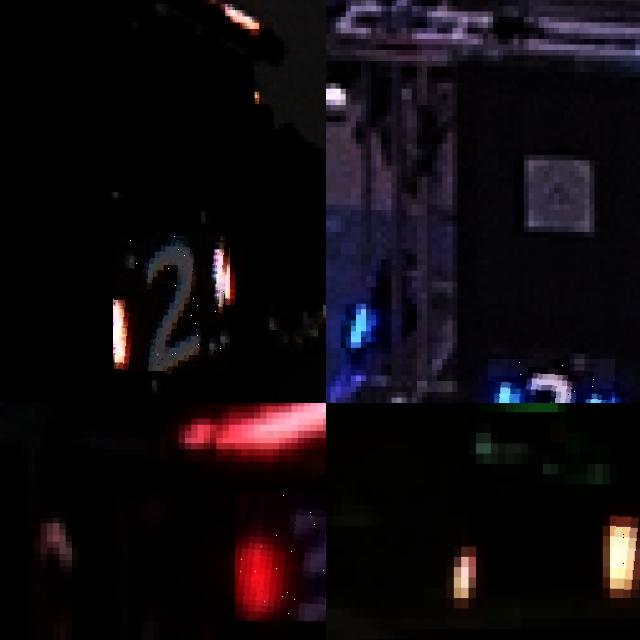B2: (488, 358, 615, 403)
R2: (113, 233, 230, 371)
R3: (235, 492, 326, 621)
Rs: (609, 505, 640, 598)
